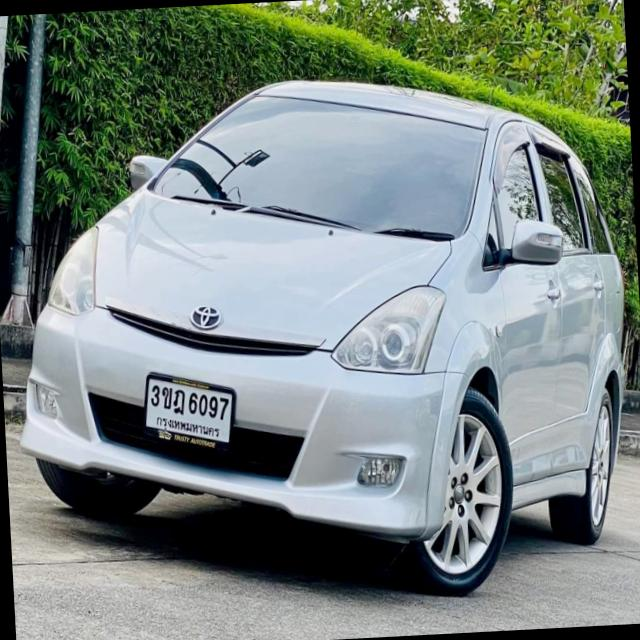license_plate: (139, 368, 240, 462)
